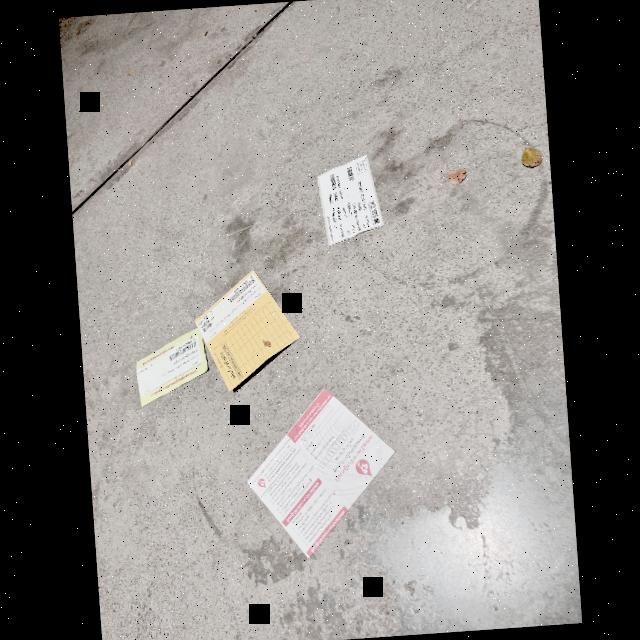scrap_paper: (231, 380, 422, 566), (191, 259, 305, 389), (119, 322, 221, 412), (304, 148, 384, 248)
